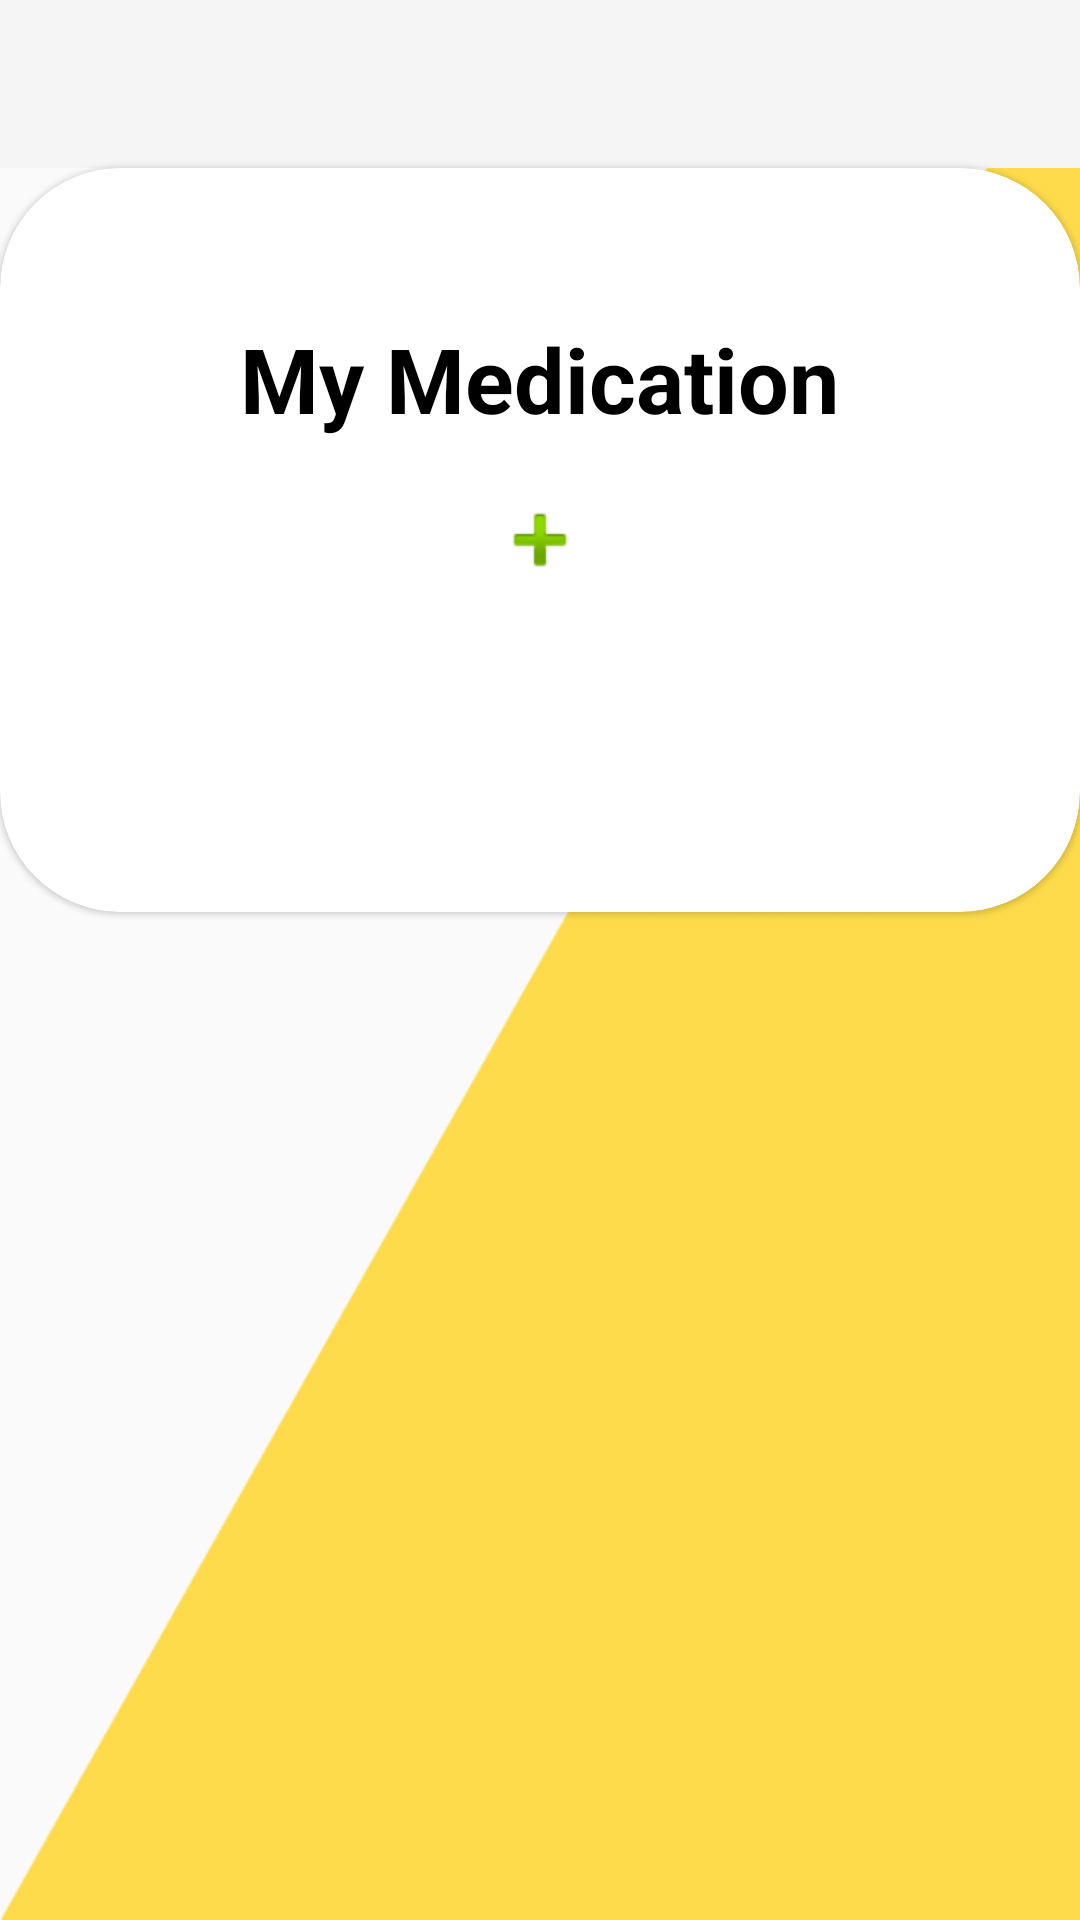

Locate icon controls on the screen. Image size 1080w x 1920h, boxes as (x1, y1, x2, y2).
add: (513, 513, 567, 567)
